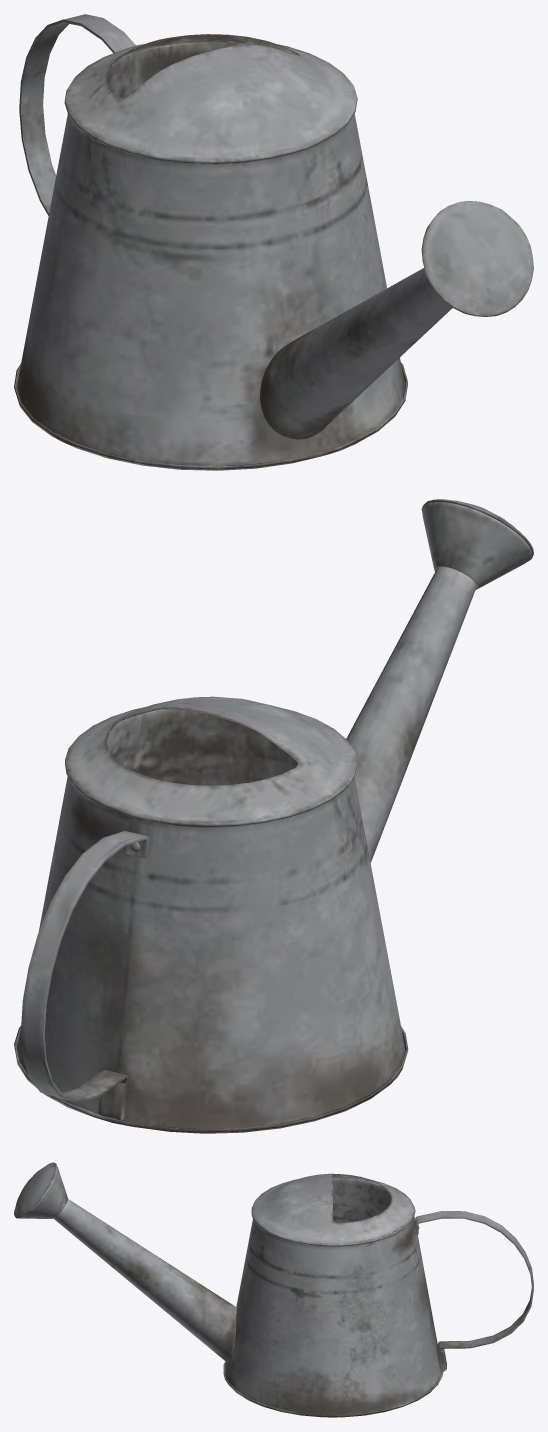
Rendered from watering_can_metal_01.glb.
The picture shows the model from 3 angles, top to bottom: view 1: azimuth 30°, elevation 25°; view 2: azimuth 150°, elevation 25°; view 3: azimuth 270°, elevation 25°; orthographic projection. The views are drawn at different scales.
Visible parts, largest first — view 1: watering_can_metal_01; view 2: watering_can_metal_01; view 3: watering_can_metal_01.
Part boxes in pixels (left/top/right/bottom): watering_can_metal_01: left=14, top=14, right=533, bottom=470; watering_can_metal_01: left=14, top=499, right=533, bottom=1133; watering_can_metal_01: left=14, top=1162, right=533, bottom=1417.
Bounding box in the file's own units: 0.1909 × 0.1967 × 0.4522.
1 material, 1 textured.
